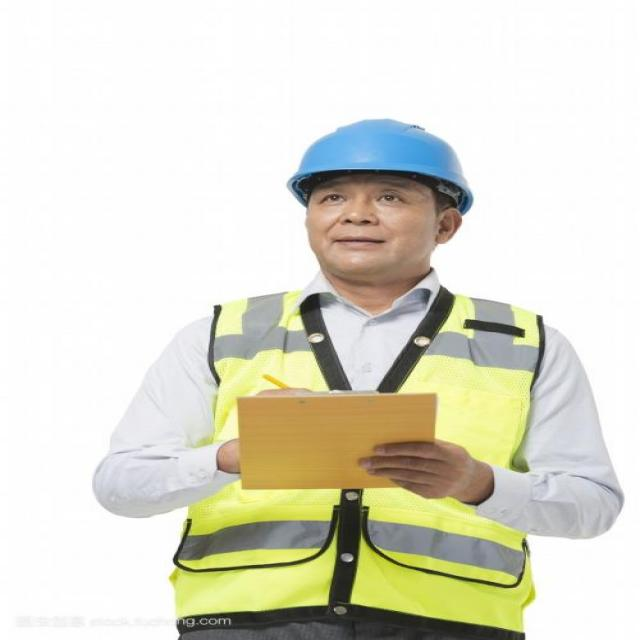Reflective-Jacket: (161, 288, 553, 636)
Safety-Helmet: (280, 115, 479, 204)
